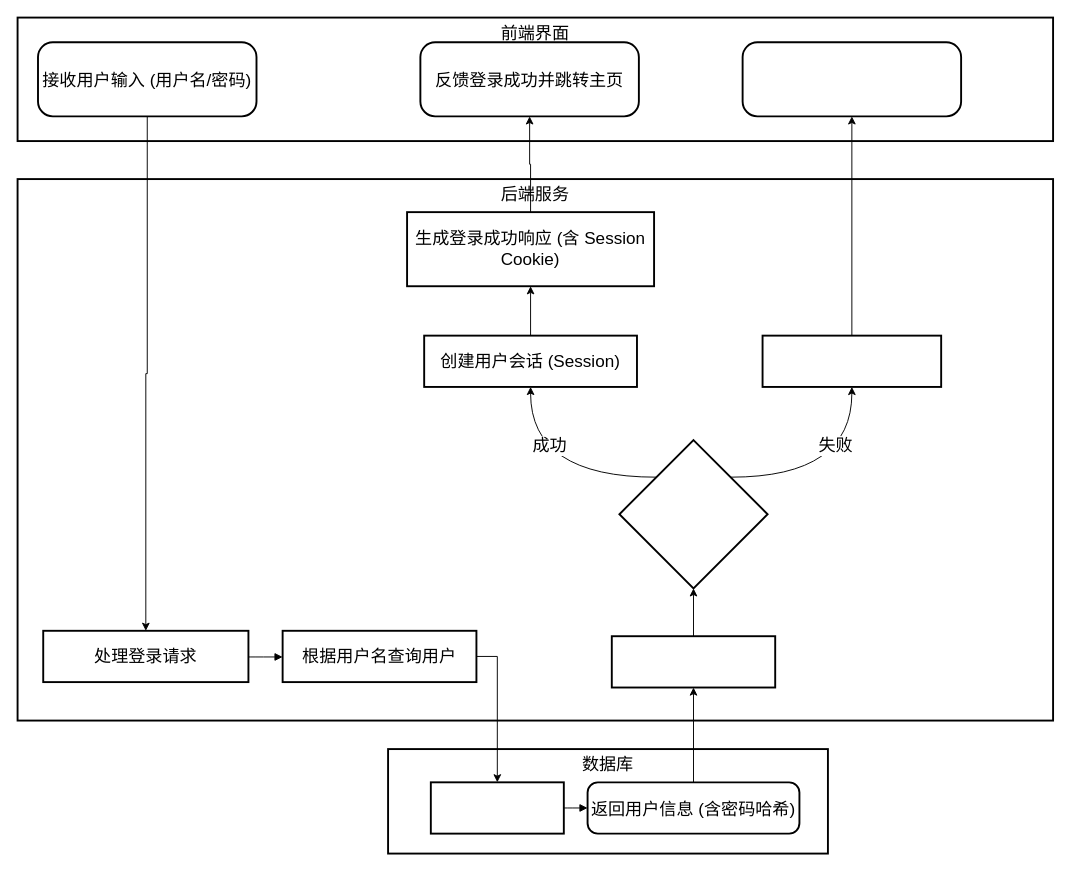
This 1070x870 diagram has some shape labels left out. The centre of each missing label's shape, as x and y in pixels:
"反馈登录失败信息" goes at pixel 851 79.
"密码是否匹配?" goes at pixel 693 514.
"查询用户表" goes at pixel 496 807.
"校验密码哈希值" goes at pixel 693 661.
"生成登录失败响应" goes at pixel 851 360.
